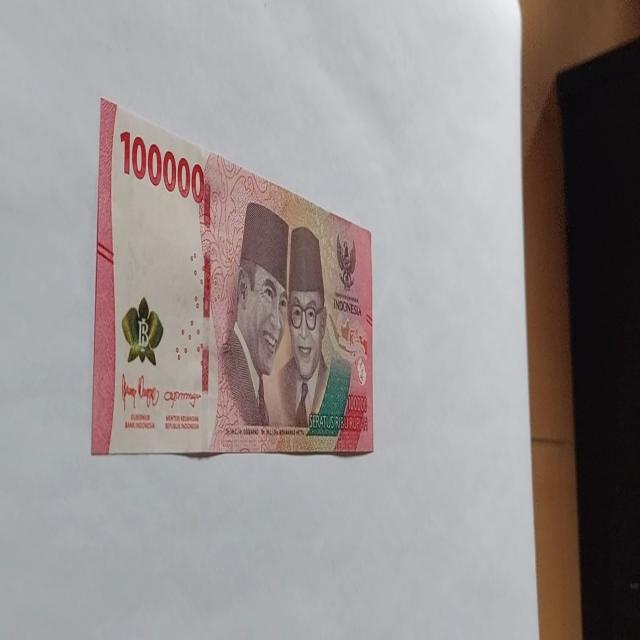seratus ribu rupiah: (90, 95, 376, 459)
